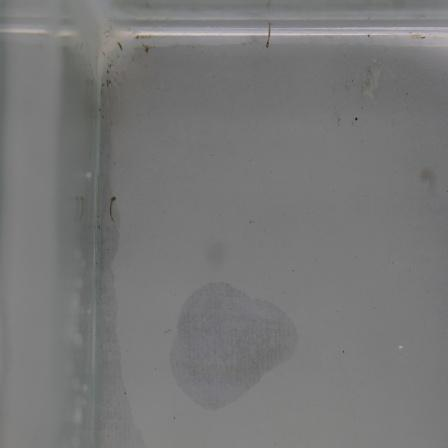Jentik-Nyamuk: (105, 190, 120, 227), (262, 21, 275, 51)
